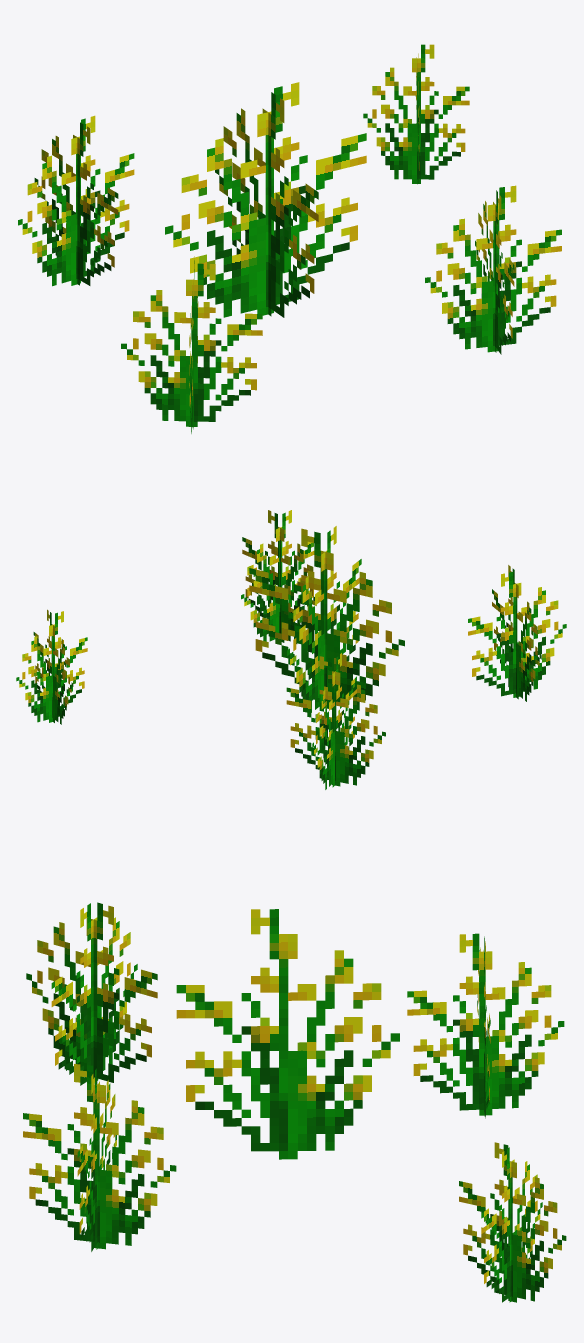
Rendered from flowers02.obj.
3 views of the same model, one above another, from view 1: azimuth 30°, elevation 25°; view 2: azimuth 150°, elevation 25°; view 3: azimuth 270°, elevation 25° (orthographic). The views are drawn at different scales.
Visible parts, largest first — view 1: Duplicate08, Duplicate11, Duplicate09, Duplicate12, Duplicate10; view 2: Duplicate08, Duplicate09, Duplicate12, Duplicate11, Duplicate10; view 3: Duplicate08, Duplicate11, Duplicate12, Duplicate09, Duplicate10.
Boxes of the visible parts, bbox=[...] form: Duplicate08: bbox=[165, 82, 366, 317]; Duplicate11: bbox=[425, 185, 561, 354]; Duplicate09: bbox=[18, 115, 134, 286]; Duplicate12: bbox=[121, 256, 262, 433]; Duplicate10: bbox=[363, 44, 469, 184]; Duplicate08: bbox=[249, 526, 404, 712]; Duplicate09: bbox=[286, 653, 385, 789]; Duplicate12: bbox=[468, 565, 566, 701]; Duplicate11: bbox=[241, 510, 316, 643]; Duplicate10: bbox=[16, 609, 87, 724]; Duplicate08: bbox=[176, 909, 399, 1159]; Duplicate11: bbox=[23, 1064, 176, 1251]; Duplicate12: bbox=[26, 902, 157, 1085]; Duplicate09: bbox=[407, 933, 564, 1118]; Duplicate10: bbox=[459, 1142, 566, 1302].
Bounding box in the file's own units: 38.95 × 17.99 × 32.94.
